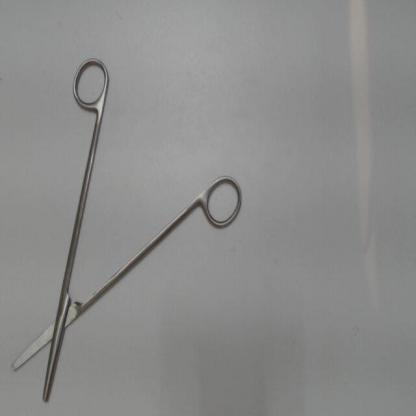9 Metzenbaum Scissors: (7, 49, 248, 411)
